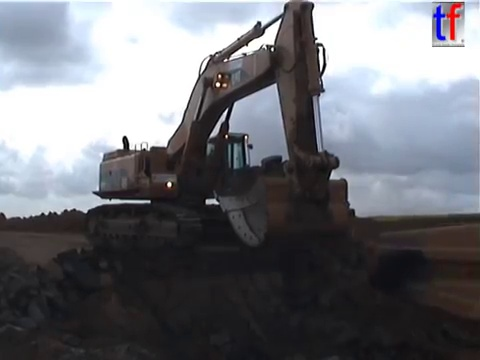excavator: (79, 1, 353, 253)
truck: (360, 217, 480, 326)
wheel loader: (267, 191, 359, 235)
